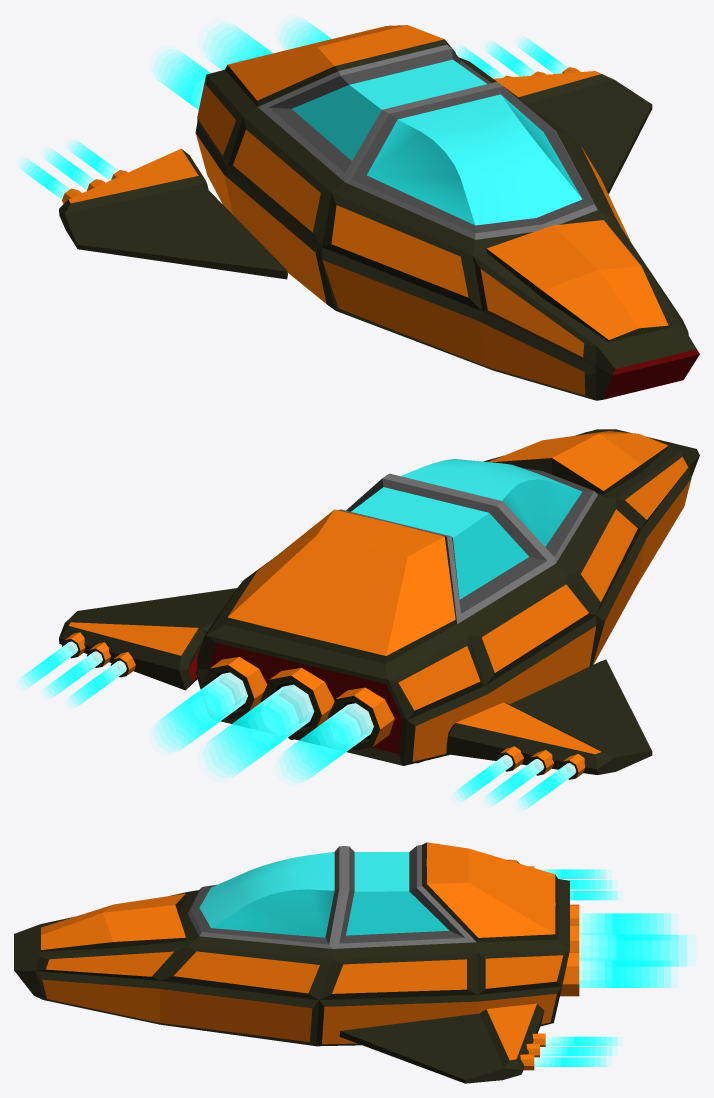
3 renders of one model, top to bottom at view 1: azimuth 30°, elevation 25°; view 2: azimuth 150°, elevation 25°; view 3: azimuth 270°, elevation 25°, orthographic. The views are drawn at different scales.
Visible parts, largest first — view 1: Cube.001; view 2: Cube.001; view 3: Cube.001.
Boxes of the visible parts, x1=… form: Cube.001: x1=20, y1=18, x2=699, y2=400; Cube.001: x1=20, y1=429, x2=699, y2=809; Cube.001: x1=14, y1=842, x2=687, y2=1083.
Size of the model in its own units: 522 by 164 by 696.
1 material, 1 textured.
